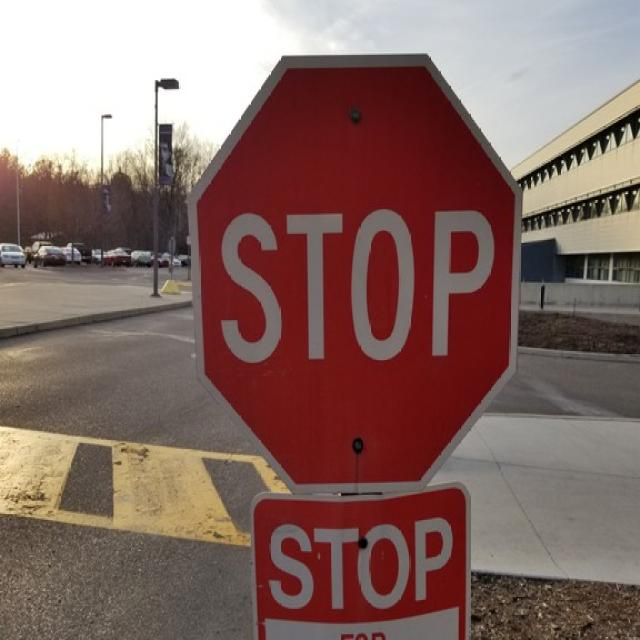Panneau-Stop: (189, 41, 522, 501)
